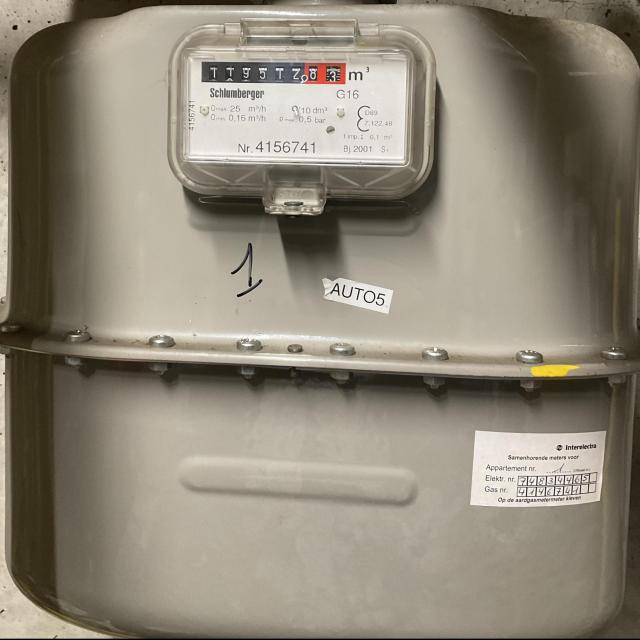gaz_meter: (173, 22, 436, 192)
indication: (201, 59, 347, 84)
